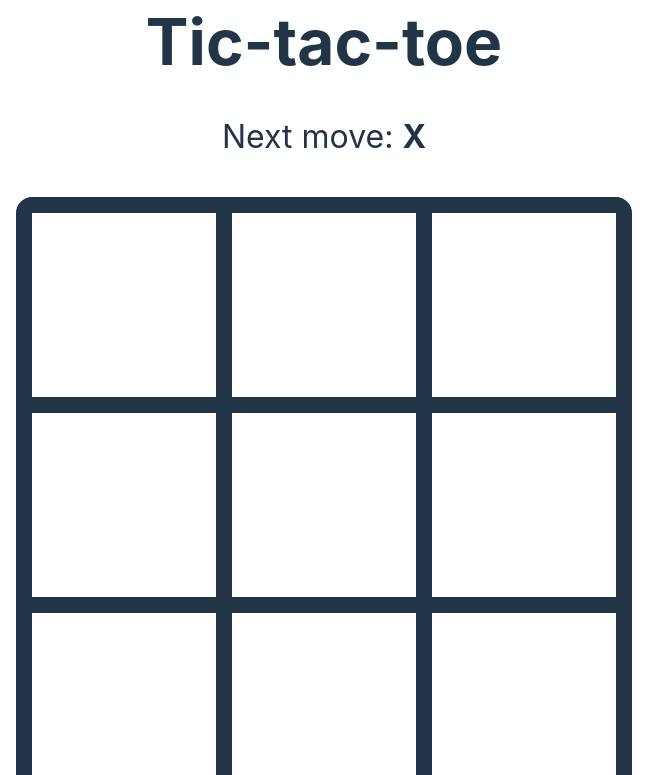
App › Moves › should add an O to a cell when current player is O
Click the element with test id "cell-1" at (324, 305), box [224,205,424,405]
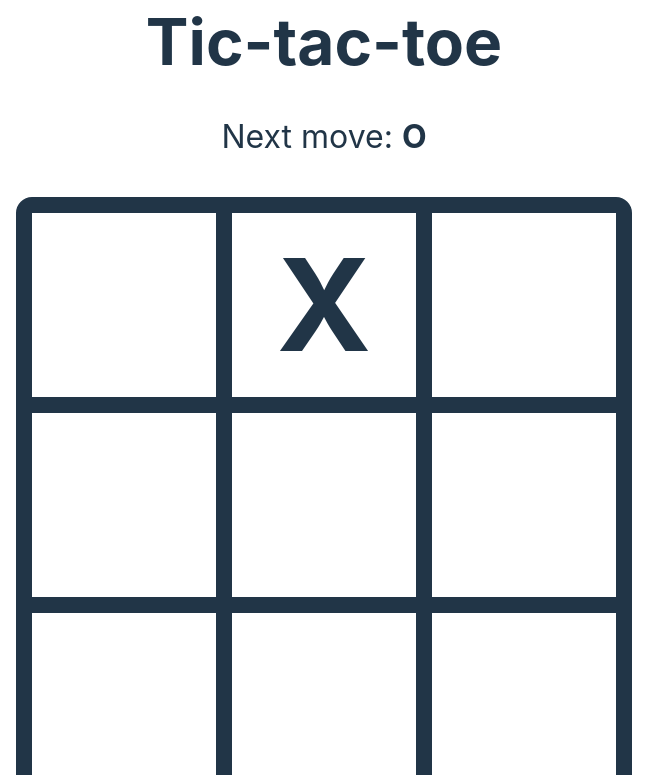
Expected: the text "O" is shown, [402,117,427,156]
Click the element with test id "cell-0" at (124, 305), box [24,205,224,405]
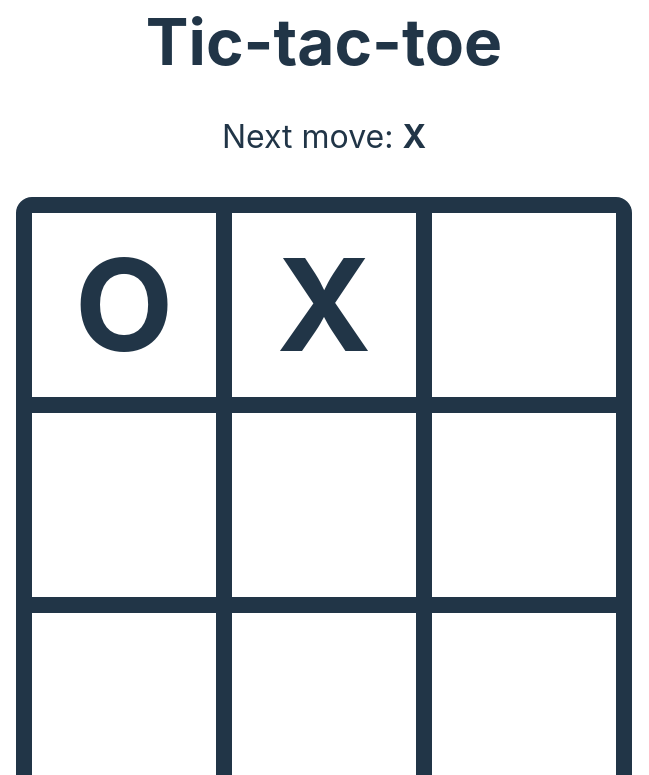
Expected: the text "O" is shown, [24,205,224,405]
